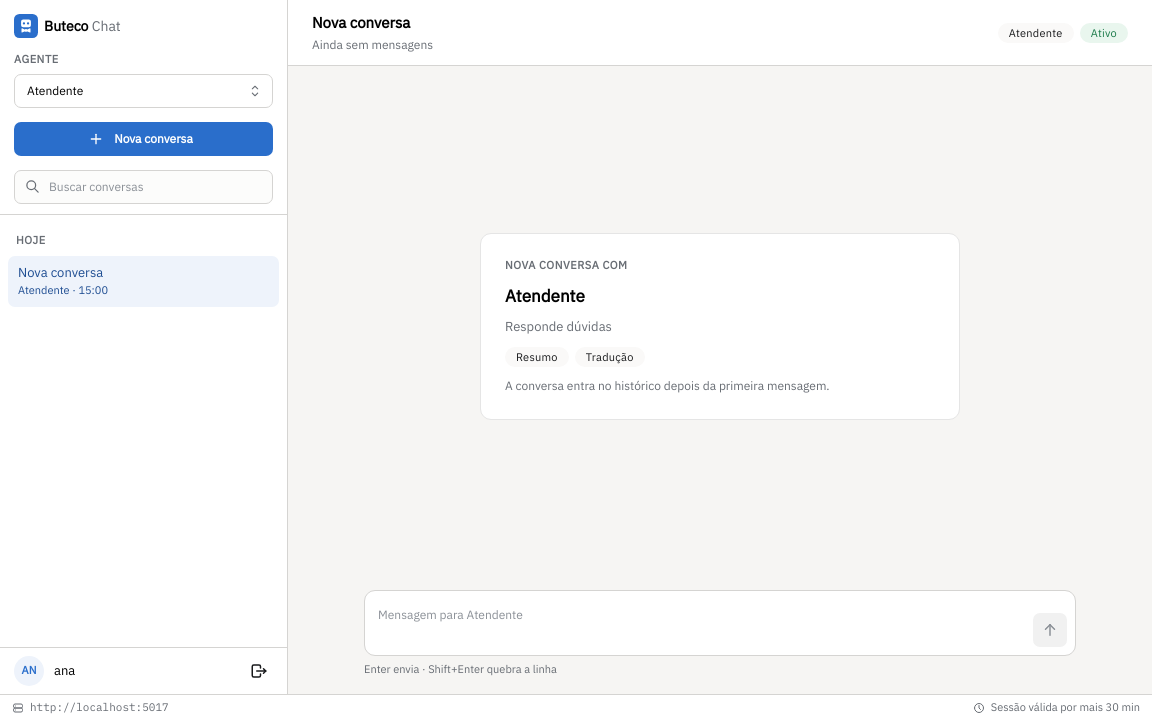
persistência › envio e resposta gravam a conversa
Type "Olá" into the text box labelled "Mensagem".
click(699, 623); type("Olá")  # box [373, 599, 1025, 647]
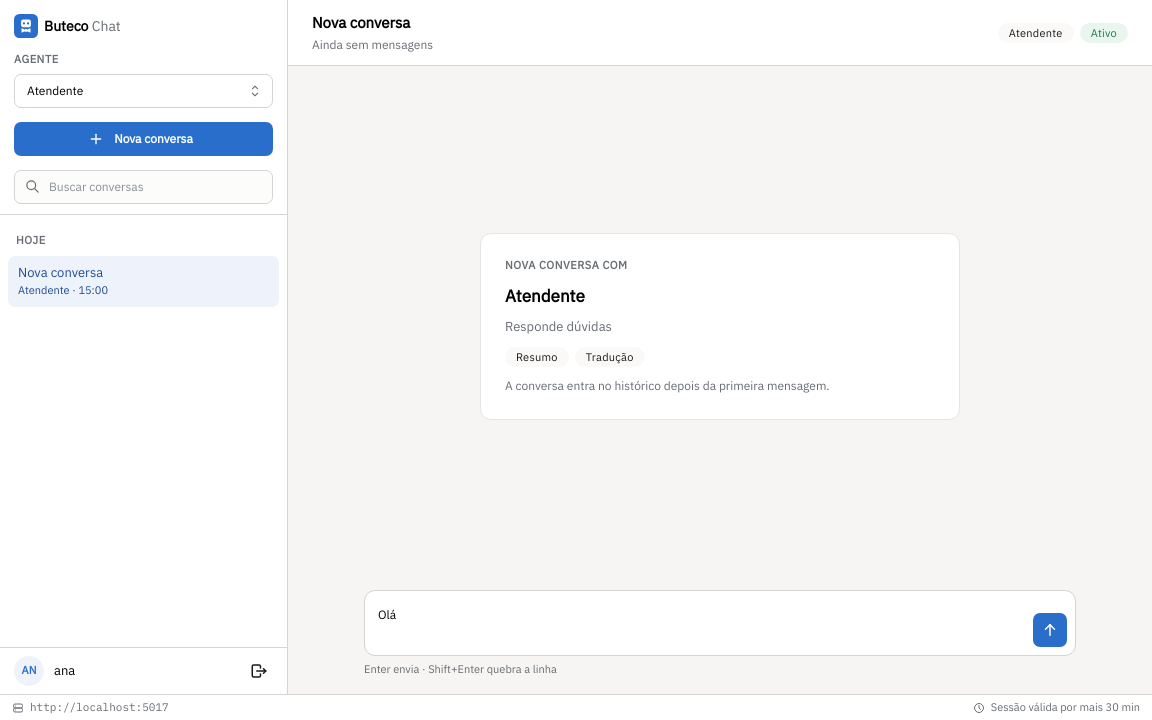
Press Enter in the text box named "Mensagem", box [373, 599, 1025, 647]
Wait 1000 ms
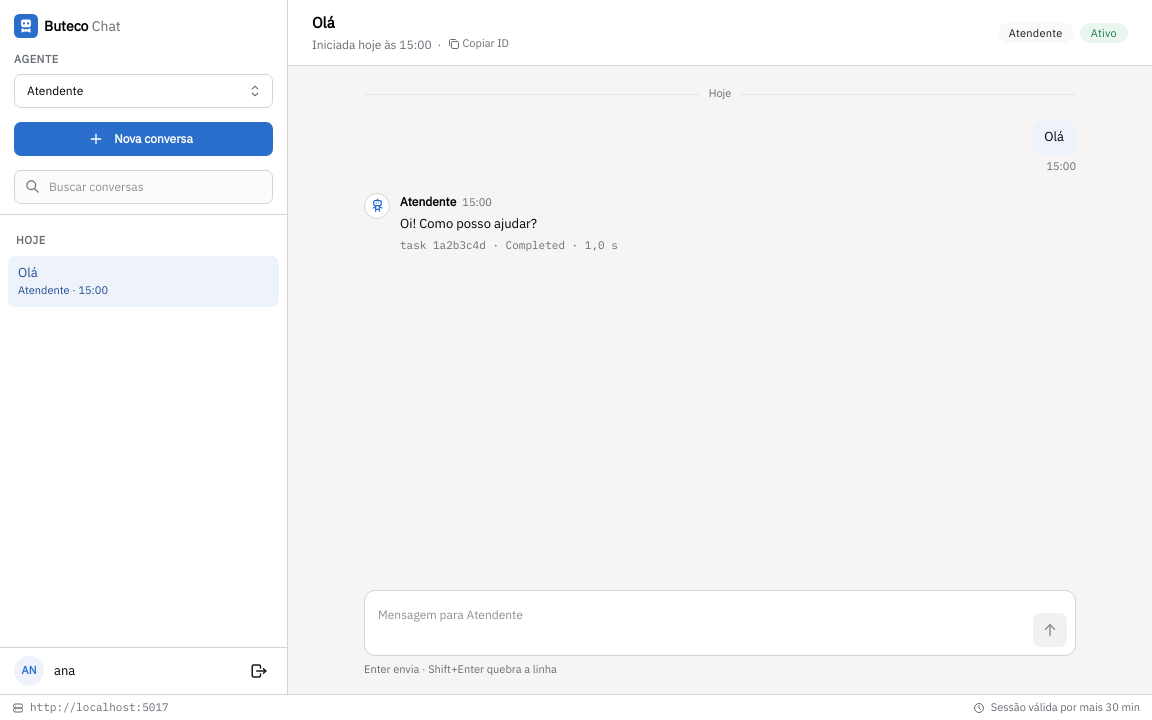
Result: the 2nd text "Olá" is shown at [18, 264, 38, 281]
